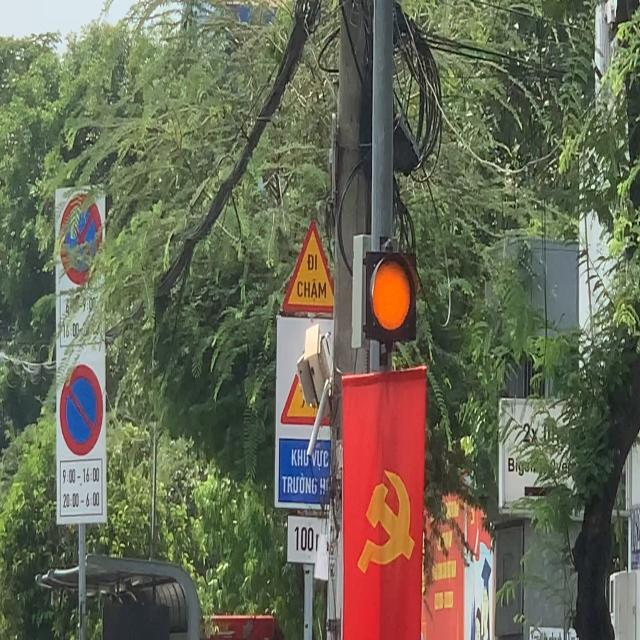Cam do: (59, 363, 104, 458)
Nguy hiem: (281, 218, 344, 320)
